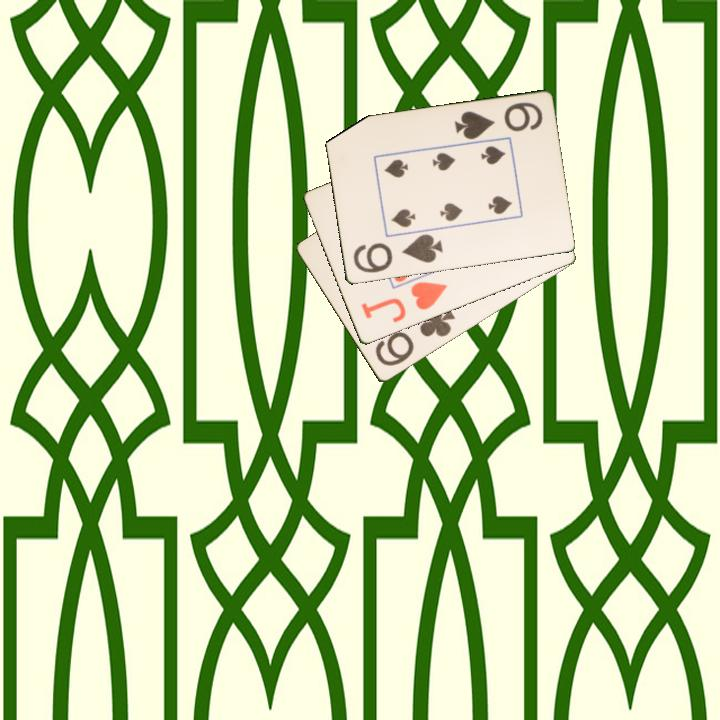6c: (371, 303, 458, 370)
6s: (349, 231, 445, 276), (451, 99, 545, 143)
Jh: (357, 278, 450, 326)
